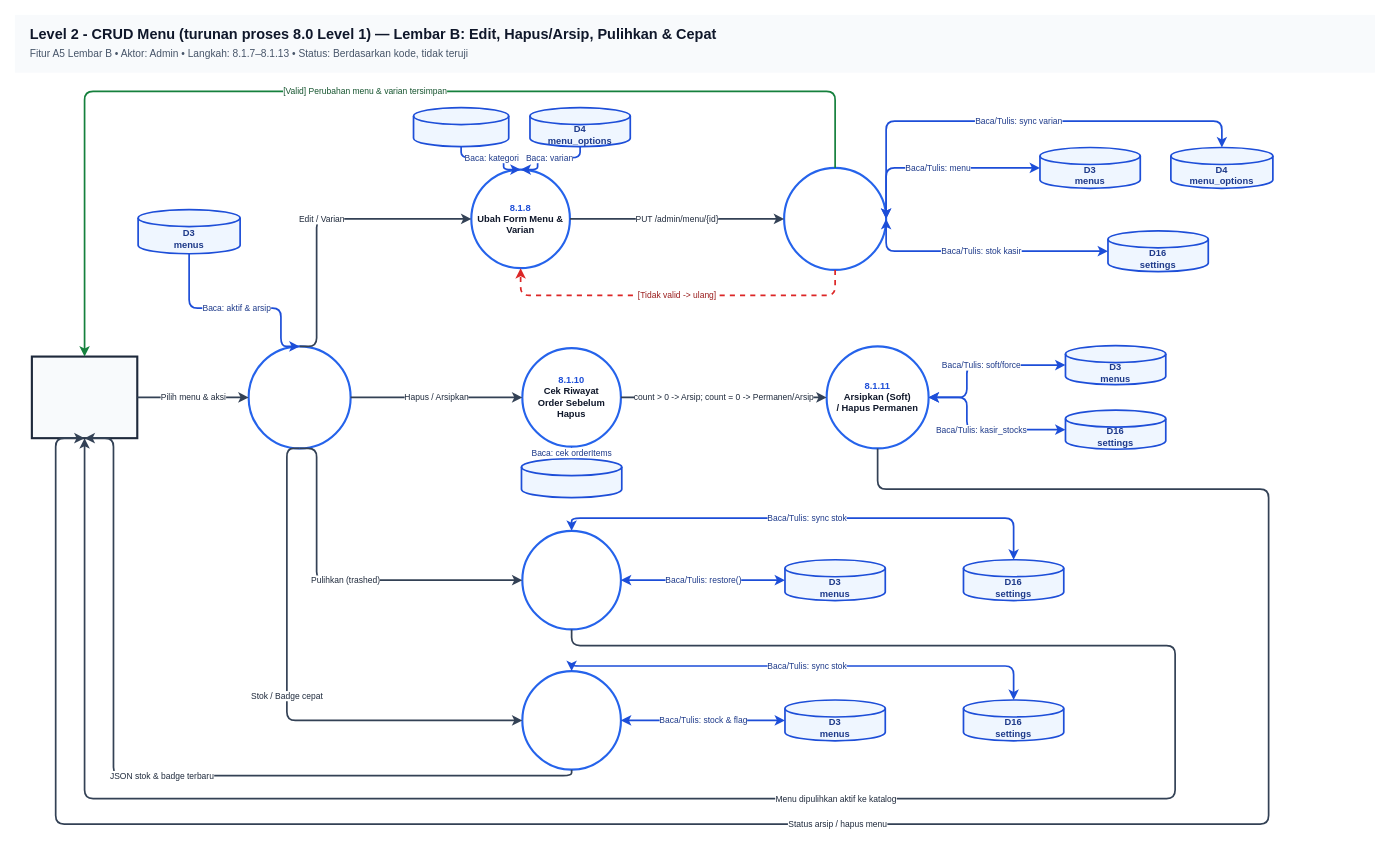
The diagram is 1389 pixels wide and 846 high, and some of its shapes have lost their labels. Here are the shapes that lost their labels. From the top down, the centre of each, then its label:
the point at 460,126: D2 categories
the point at 835,218: 8.1.9 Validasi & Simpan Edit + Varian
the point at 84,397: Admin Terautentikasi
the point at 299,397: 8.1.7 Pilih Aksi Menu / Tab Terarsip
the point at 571,477: D7 order_items
the point at 571,579: 8.1.12 Pulihkan Menu Terarsip (Restore)
the point at 571,720: 8.1.13 Ubah Stok Cepat & Flag Unggulan
